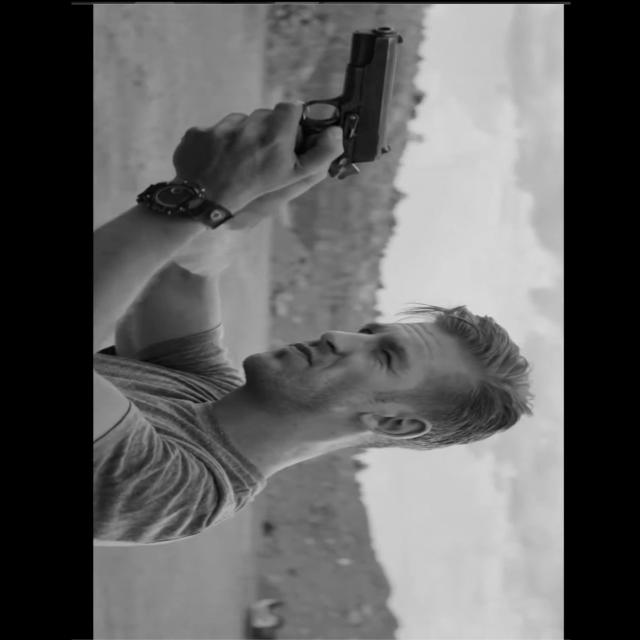weapons: (256, 19, 422, 186)
